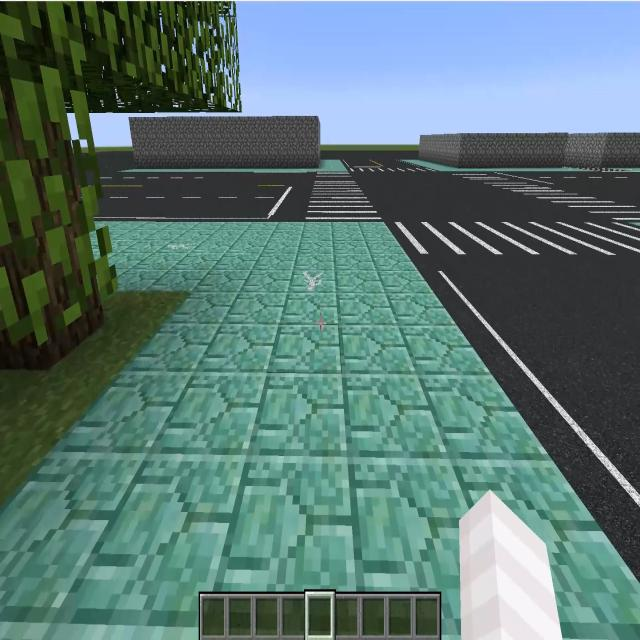crosswalk: (396, 222, 639, 255), (455, 173, 635, 213), (306, 173, 379, 220), (349, 165, 434, 174)
road: (420, 252, 638, 570), (96, 152, 315, 221), (352, 171, 629, 222), (322, 151, 418, 168)
sidewalk: (0, 218, 640, 639), (121, 159, 349, 175), (402, 160, 546, 174), (553, 167, 589, 172), (610, 168, 636, 173)
